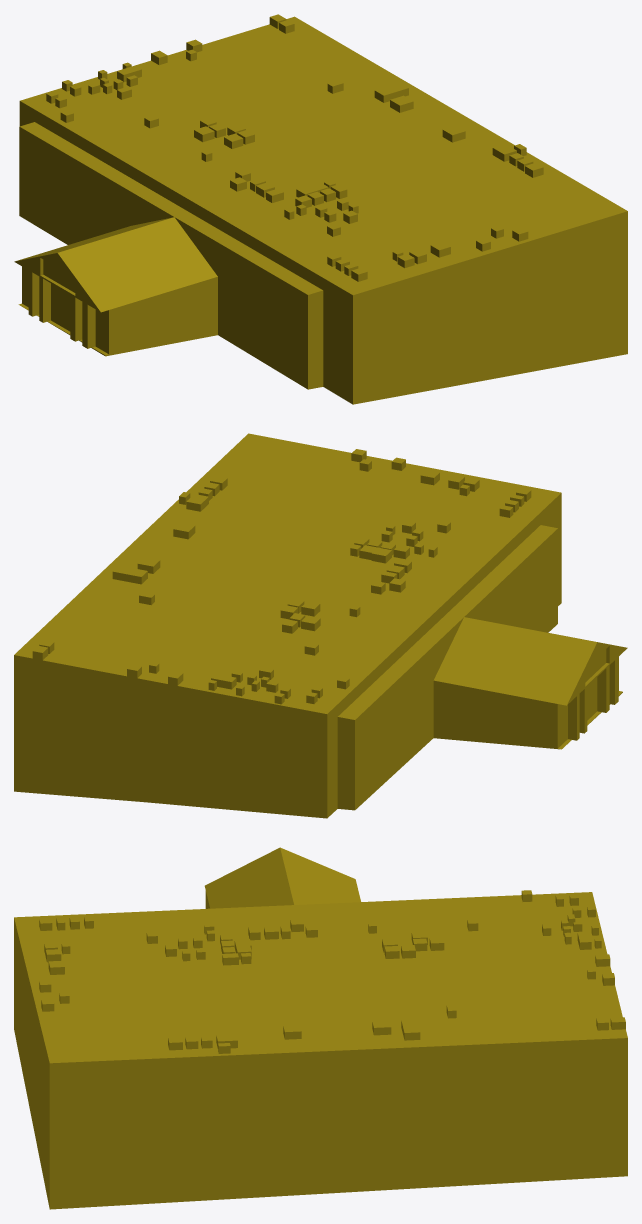
The model's file is Odeon Cinema.fbx.
The picture shows the model from 3 angles, top to bottom: view 1: azimuth 30°, elevation 25°; view 2: azimuth 150°, elevation 25°; view 3: azimuth 270°, elevation 25°; orthographic projection. The views are drawn at different scales.
Parts seen in each view (by area): view 1: Odeon Cinema.001; view 2: Odeon Cinema.001; view 3: Odeon Cinema.001.
Boxes of the visible parts, left/top/right/bottom form: Odeon Cinema.001: left=14, top=14, right=627, bottom=404; Odeon Cinema.001: left=14, top=433, right=627, bottom=818; Odeon Cinema.001: left=14, top=847, right=627, bottom=1209.
Bounding box in the file's own units: 5155 × 1593 × 5768.
